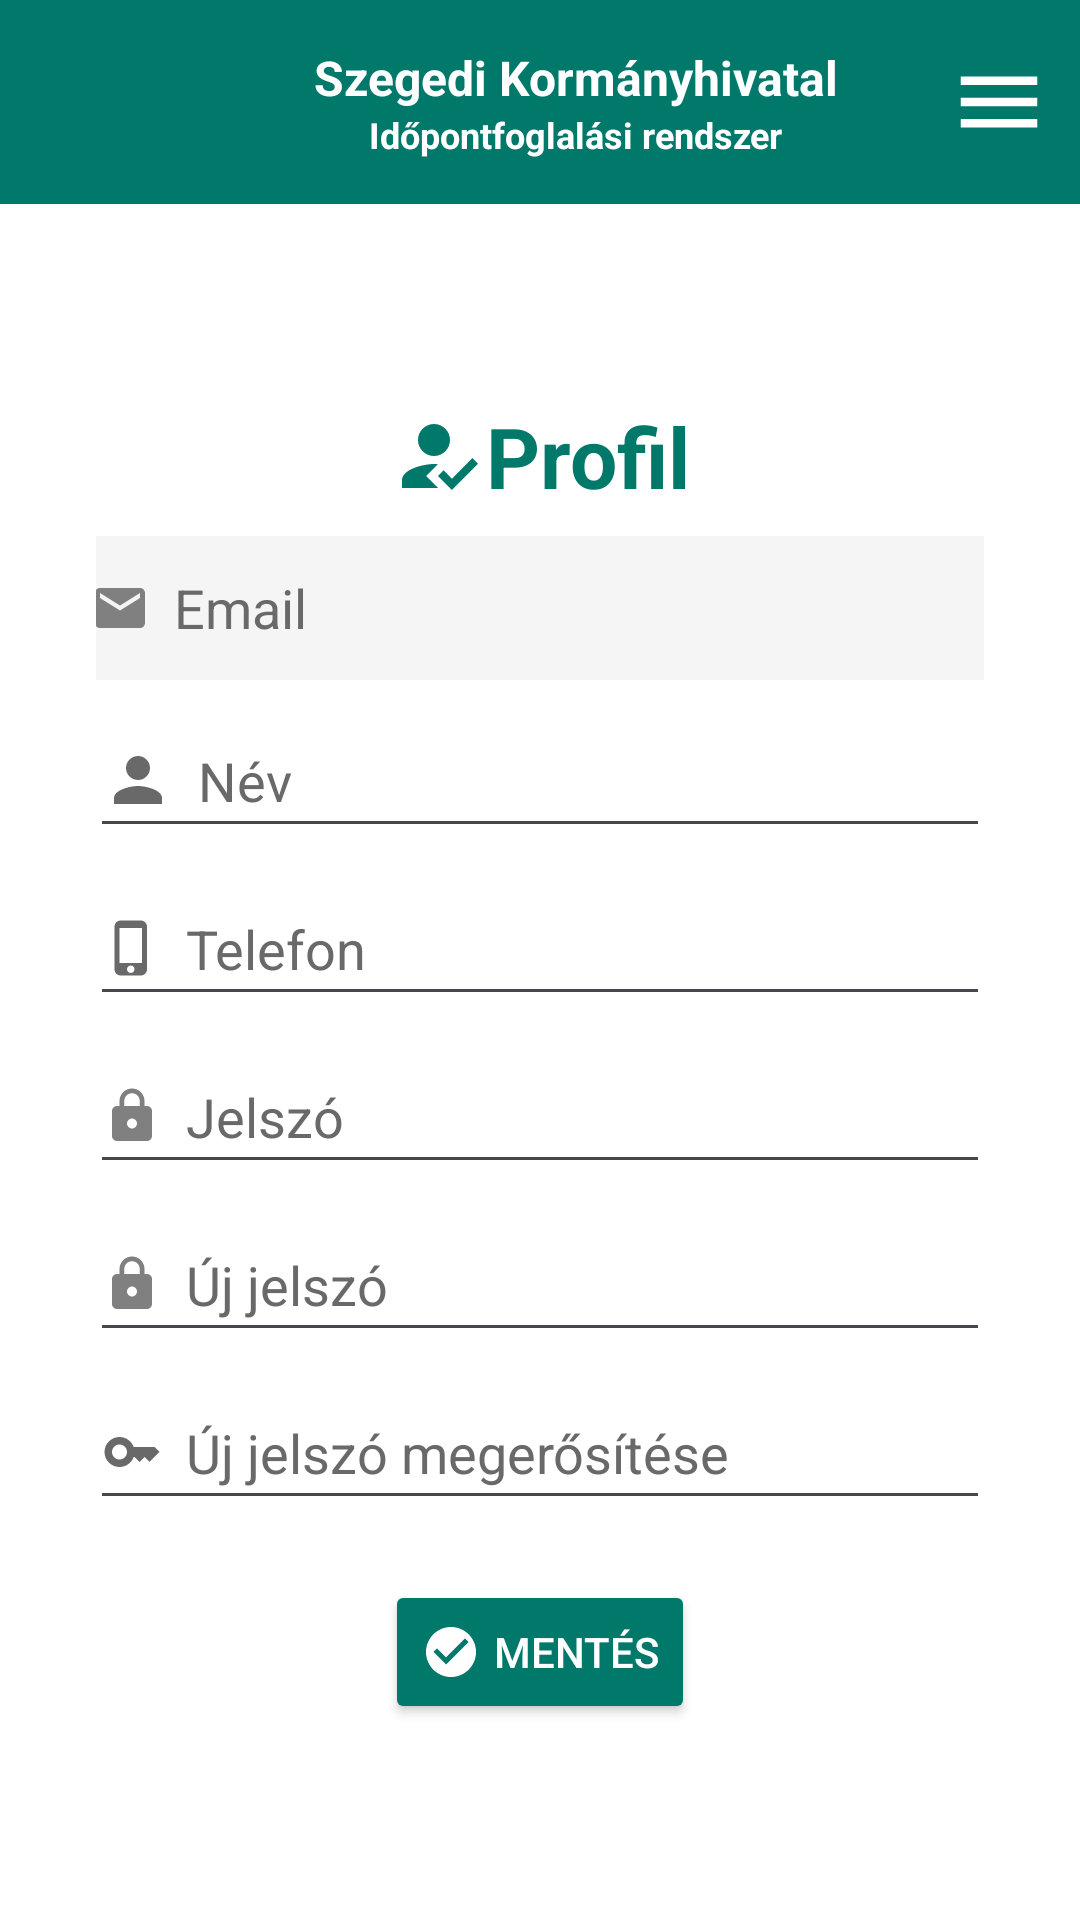

Locate icon controls on the screen. Image size 1080×1920, boxes as [left=x1, top=y1, right=x2, bottom=y2].
Menű: [left=960, top=76, right=1038, bottom=128]
